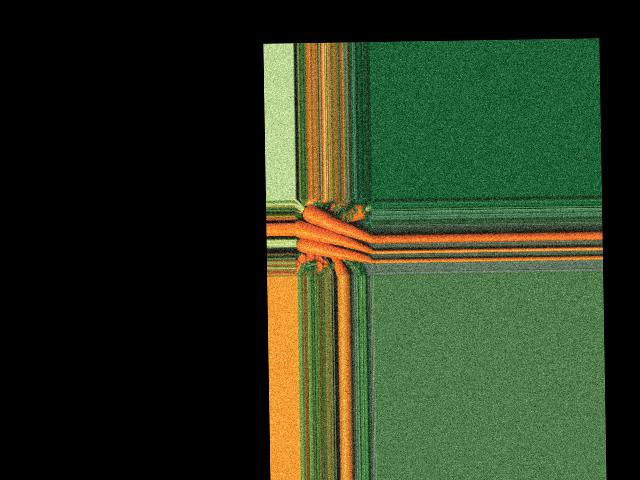carrot: (303, 203, 371, 244)
